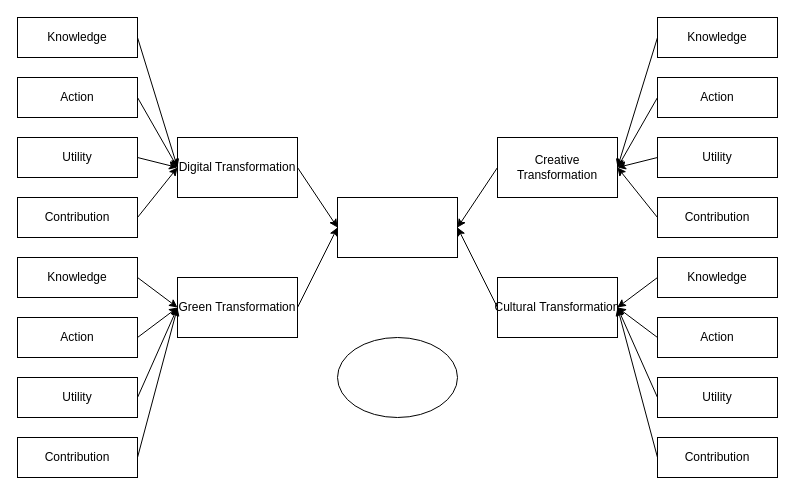
The diagram is 795 pixels wide and 495 high, and some of its shapes have lost their labels. Here are the shapes that lost their labels. From the top down, the centre of each, then its label:
At (x=397, y=227): "Sustainability Transformation".
At (x=397, y=377): "WTP".
